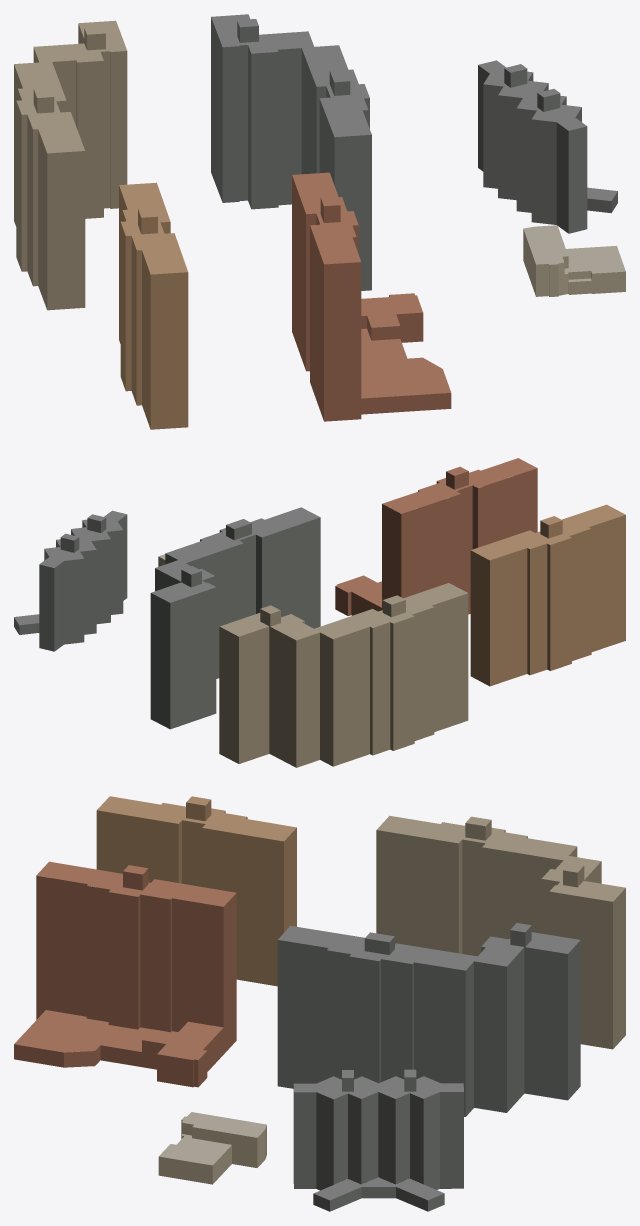
The model's file is tile-7_7.glb.
3 views of the same model, one above another, from view 1: azimuth 30°, elevation 25°; view 2: azimuth 150°, elevation 25°; view 3: azimuth 270°, elevation 25° (orthographic). The views are drawn at different scales.
Parts seen in each view (by area): view 1: wall, roof; view 2: wall, roof; view 3: wall, roof.
Part boxes in pixels (x1=…): wall: x1=14, y1=17, x2=625, y2=429; roof: x1=14, y1=14, x2=625, y2=398; wall: x1=14, y1=468, x2=625, y2=767; roof: x1=14, y1=458, x2=625, y2=640; wall: x1=14, y1=800, x2=625, y2=1211; roof: x1=14, y1=796, x2=625, y2=1200.
Bounding box in the file's own units: 225 × 64.54 × 217.
